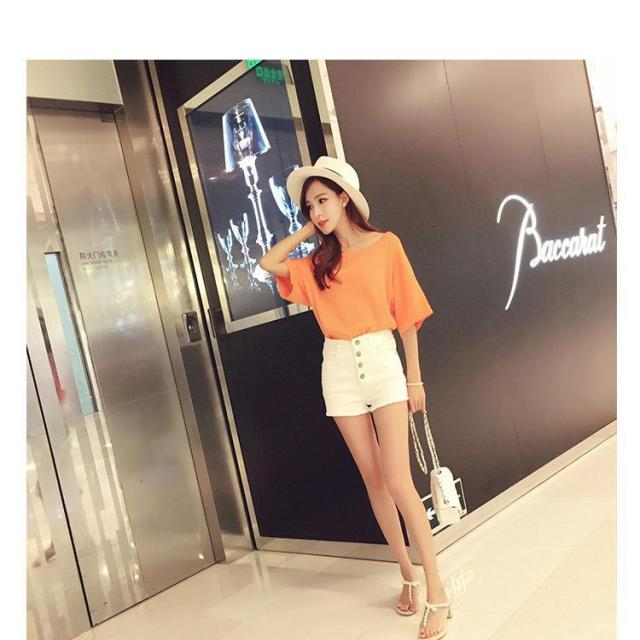long sleeve top: (283, 233, 434, 339)
shorts: (323, 330, 410, 415)
